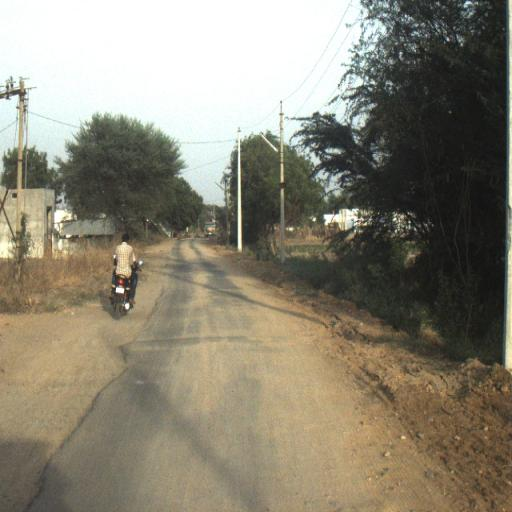street_light_0: (259, 132, 284, 167), (214, 180, 228, 198)
